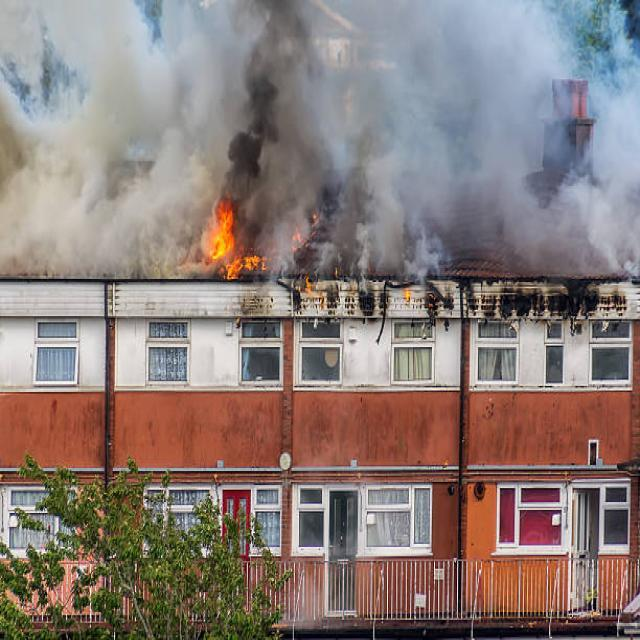Fire: (188, 168, 262, 256)
Smoke: (0, 0, 640, 263)
